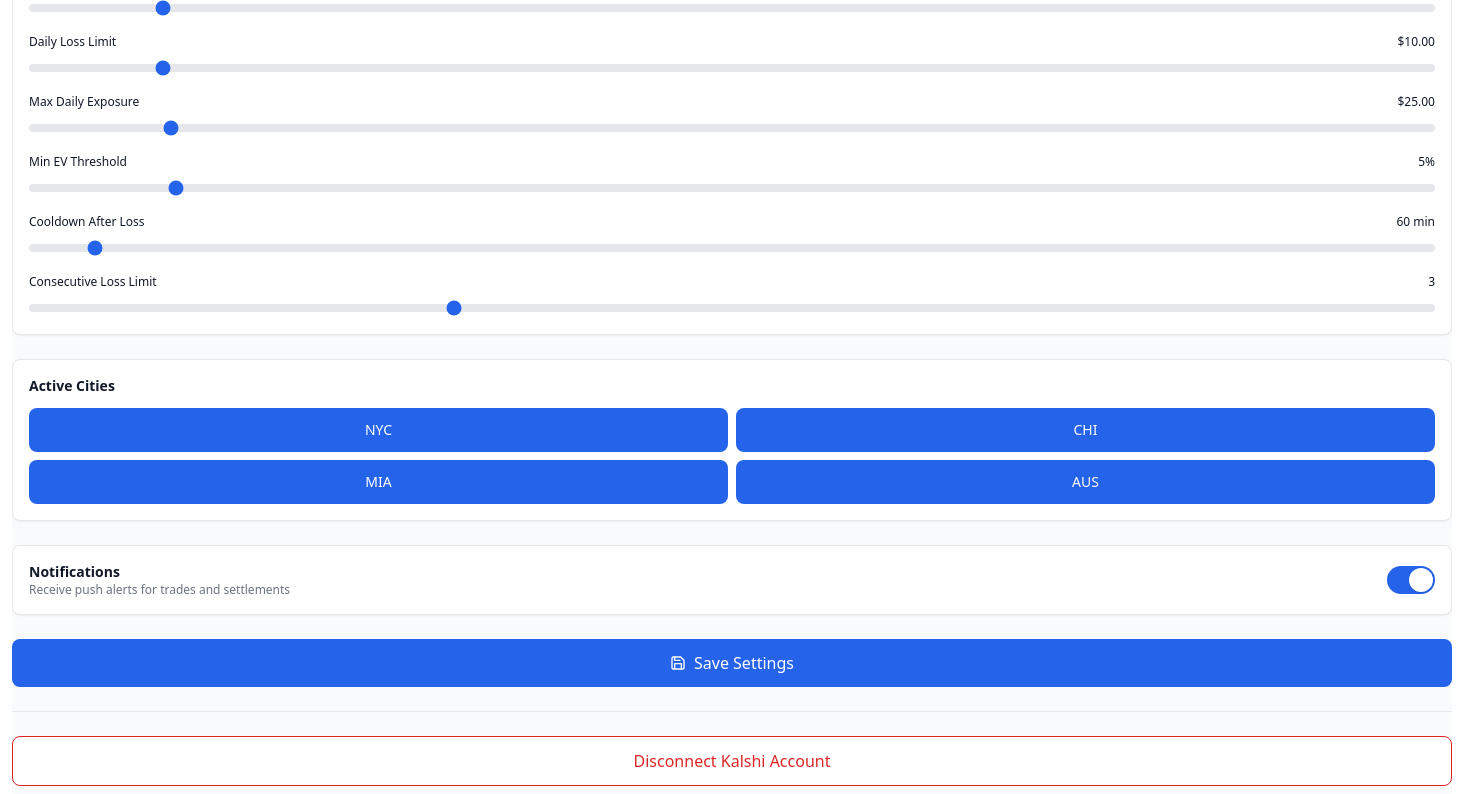
Test: SettingsPage › shows save error message
This screenshot has width=1464, height=794.
(page scrolled)
Click the button "Save Settings".
click(732, 663)  # box [12,639,1452,687]
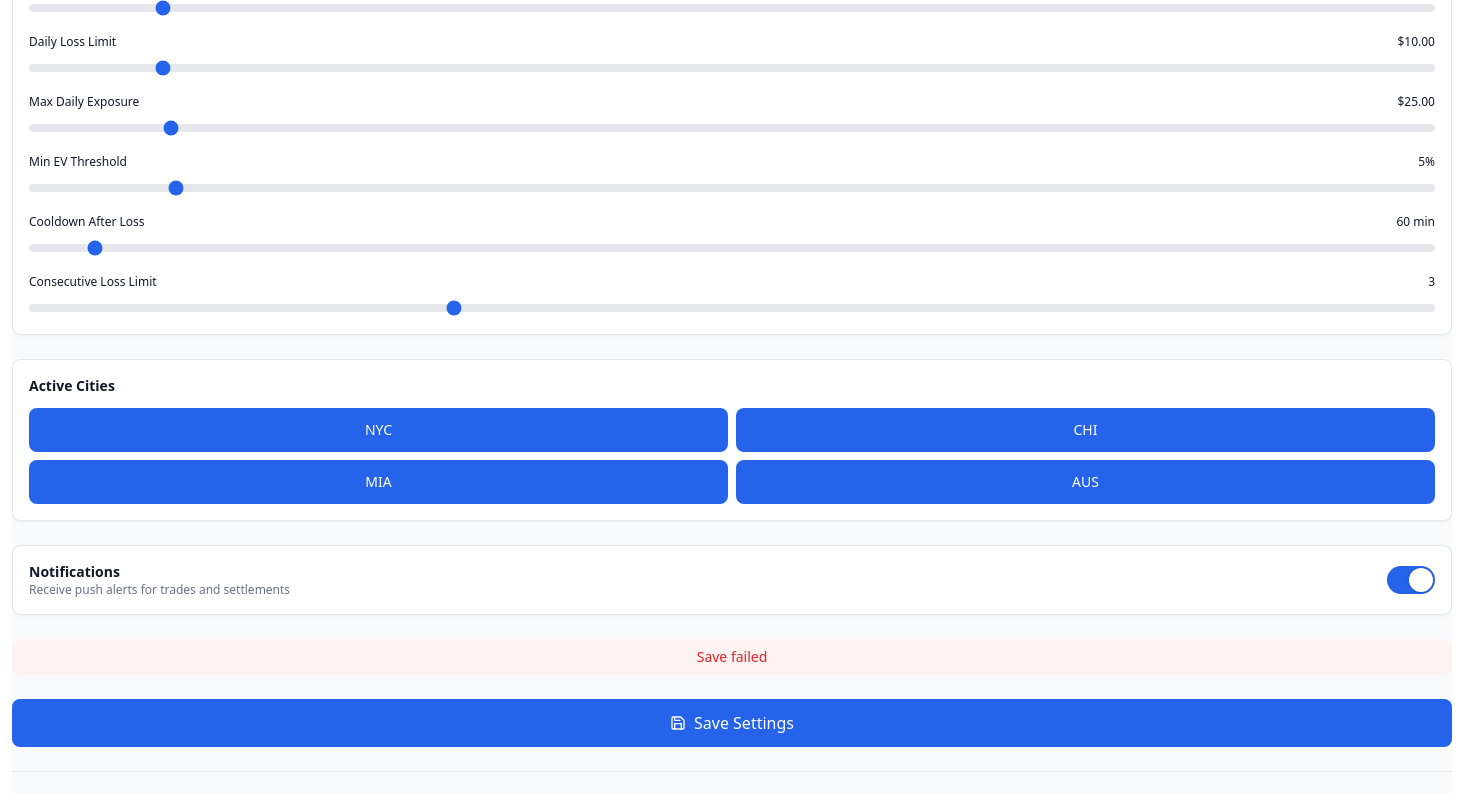
Now the text "Save failed" is shown, box [12,639,1452,675]
